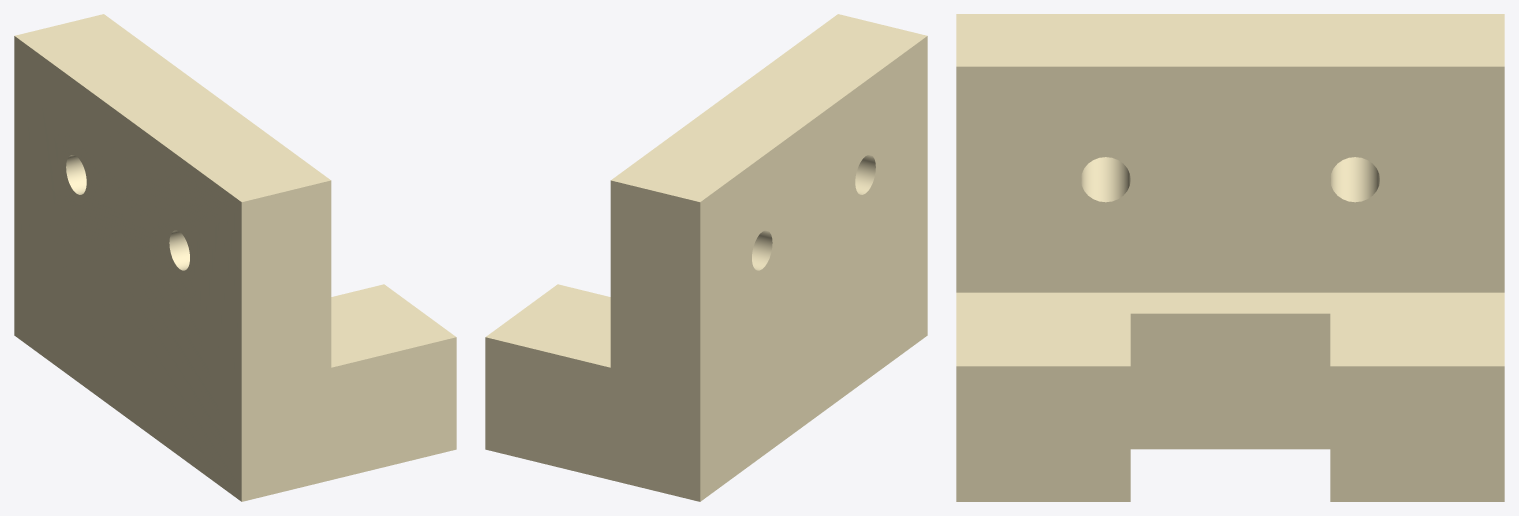
3 views of the same model, side by side, from view 1: azimuth 30°, elevation 25°; view 2: azimuth 150°, elevation 25°; view 3: azimuth 270°, elevation 25° (orthographic). The views are drawn at different scales.
Parts seen in each view (by area): view 1: Root Node; view 2: Root Node; view 3: Root Node.
Part boxes in pixels (x1,y1,x2,y2): Root Node: (14,14,456,501); Root Node: (485,14,927,501); Root Node: (956,14,1504,501).
Size of the model in its own units: 60 by 80 by 110.
